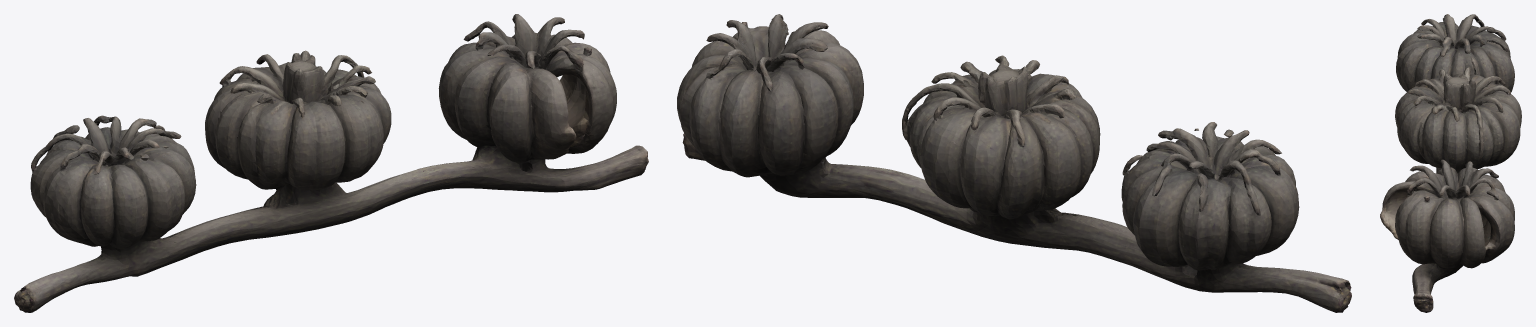
3 renders of one model, left to right at view 1: azimuth 30°, elevation 25°; view 2: azimuth 150°, elevation 25°; view 3: azimuth 270°, elevation 25°, orthographic. The views are drawn at different scales.
Parts seen in each view (by area): view 1: world; view 2: world; view 3: world.
Boxes of the visible parts, left/top/right/bottom form: world: left=14, top=14, right=648, bottom=312; world: left=677, top=14, right=1351, bottom=312; world: left=1380, top=14, right=1521, bottom=312.
Size of the model in its own units: 0.09 by 0.0242 by 0.0247.
Materials: 1 (1 with a texture image).
